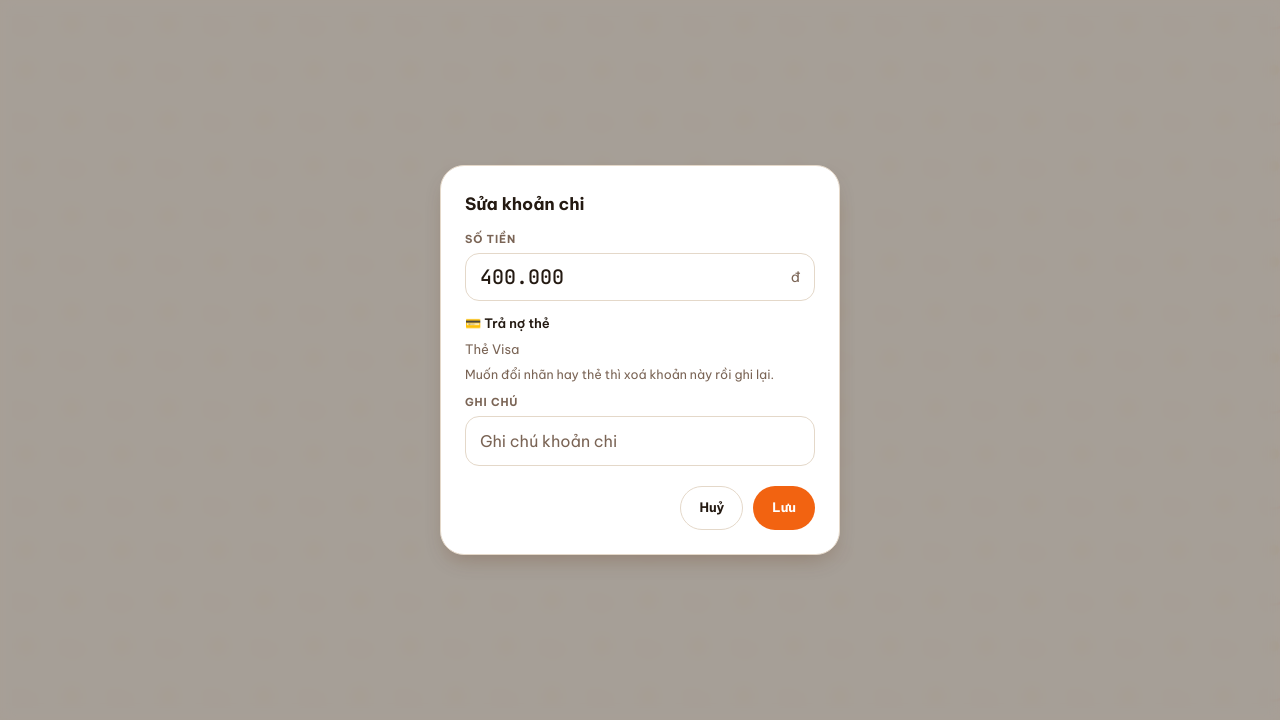
Test: EditExpenseModal with cards › masks the card's debt in the over-debt hint while money is hidden
Replace the text in the field labelled "Số tiền" with "1500000" at [631, 277], box [480,254,783,300]
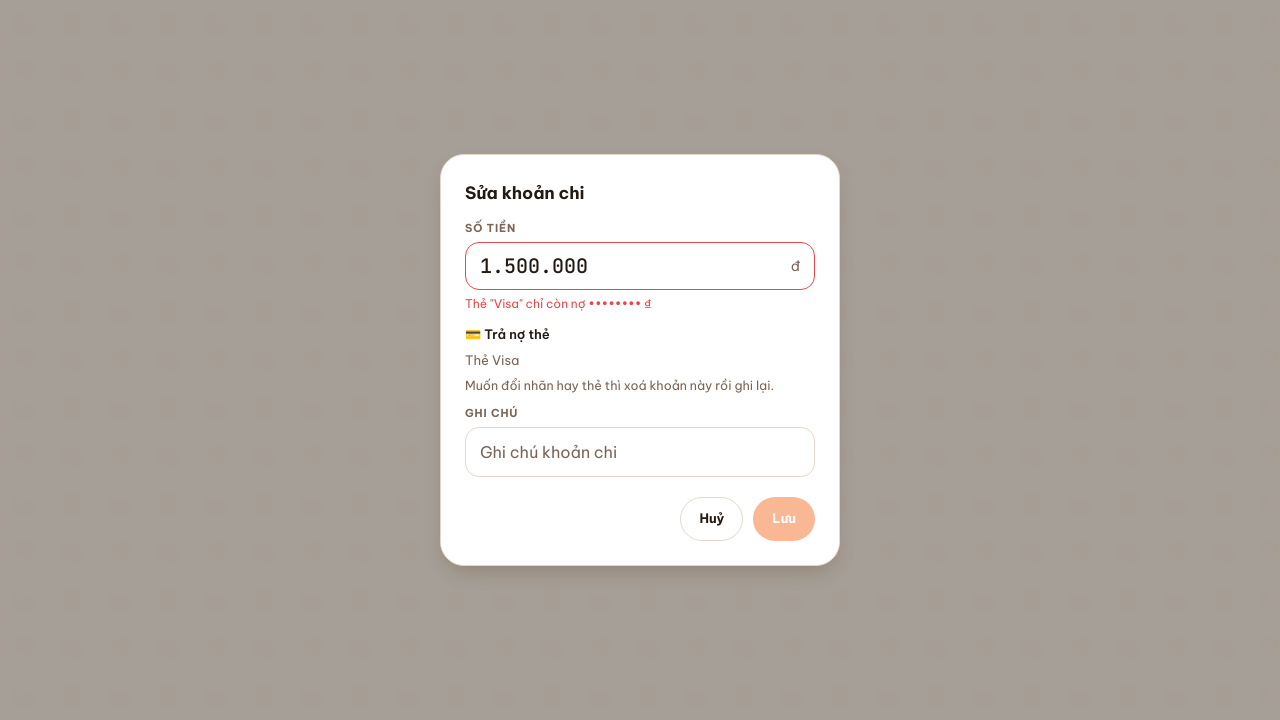
Now the button "Lưu" is disabled, box [753,497,815,541]
